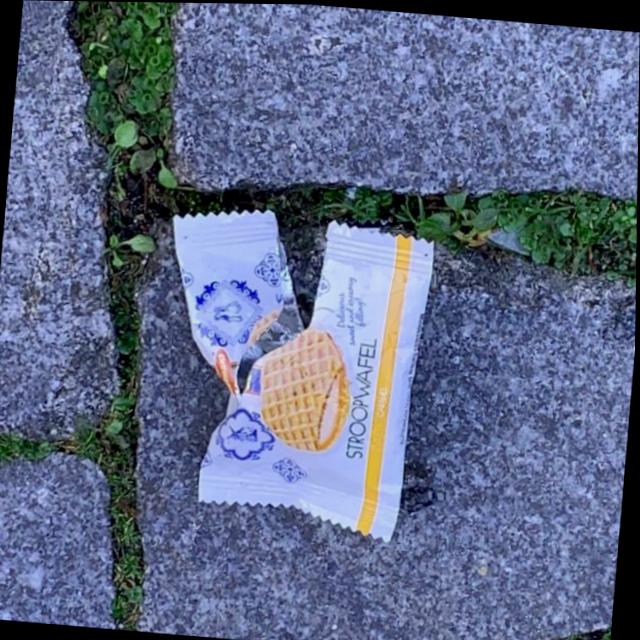Plastic: (143, 195, 441, 549)
